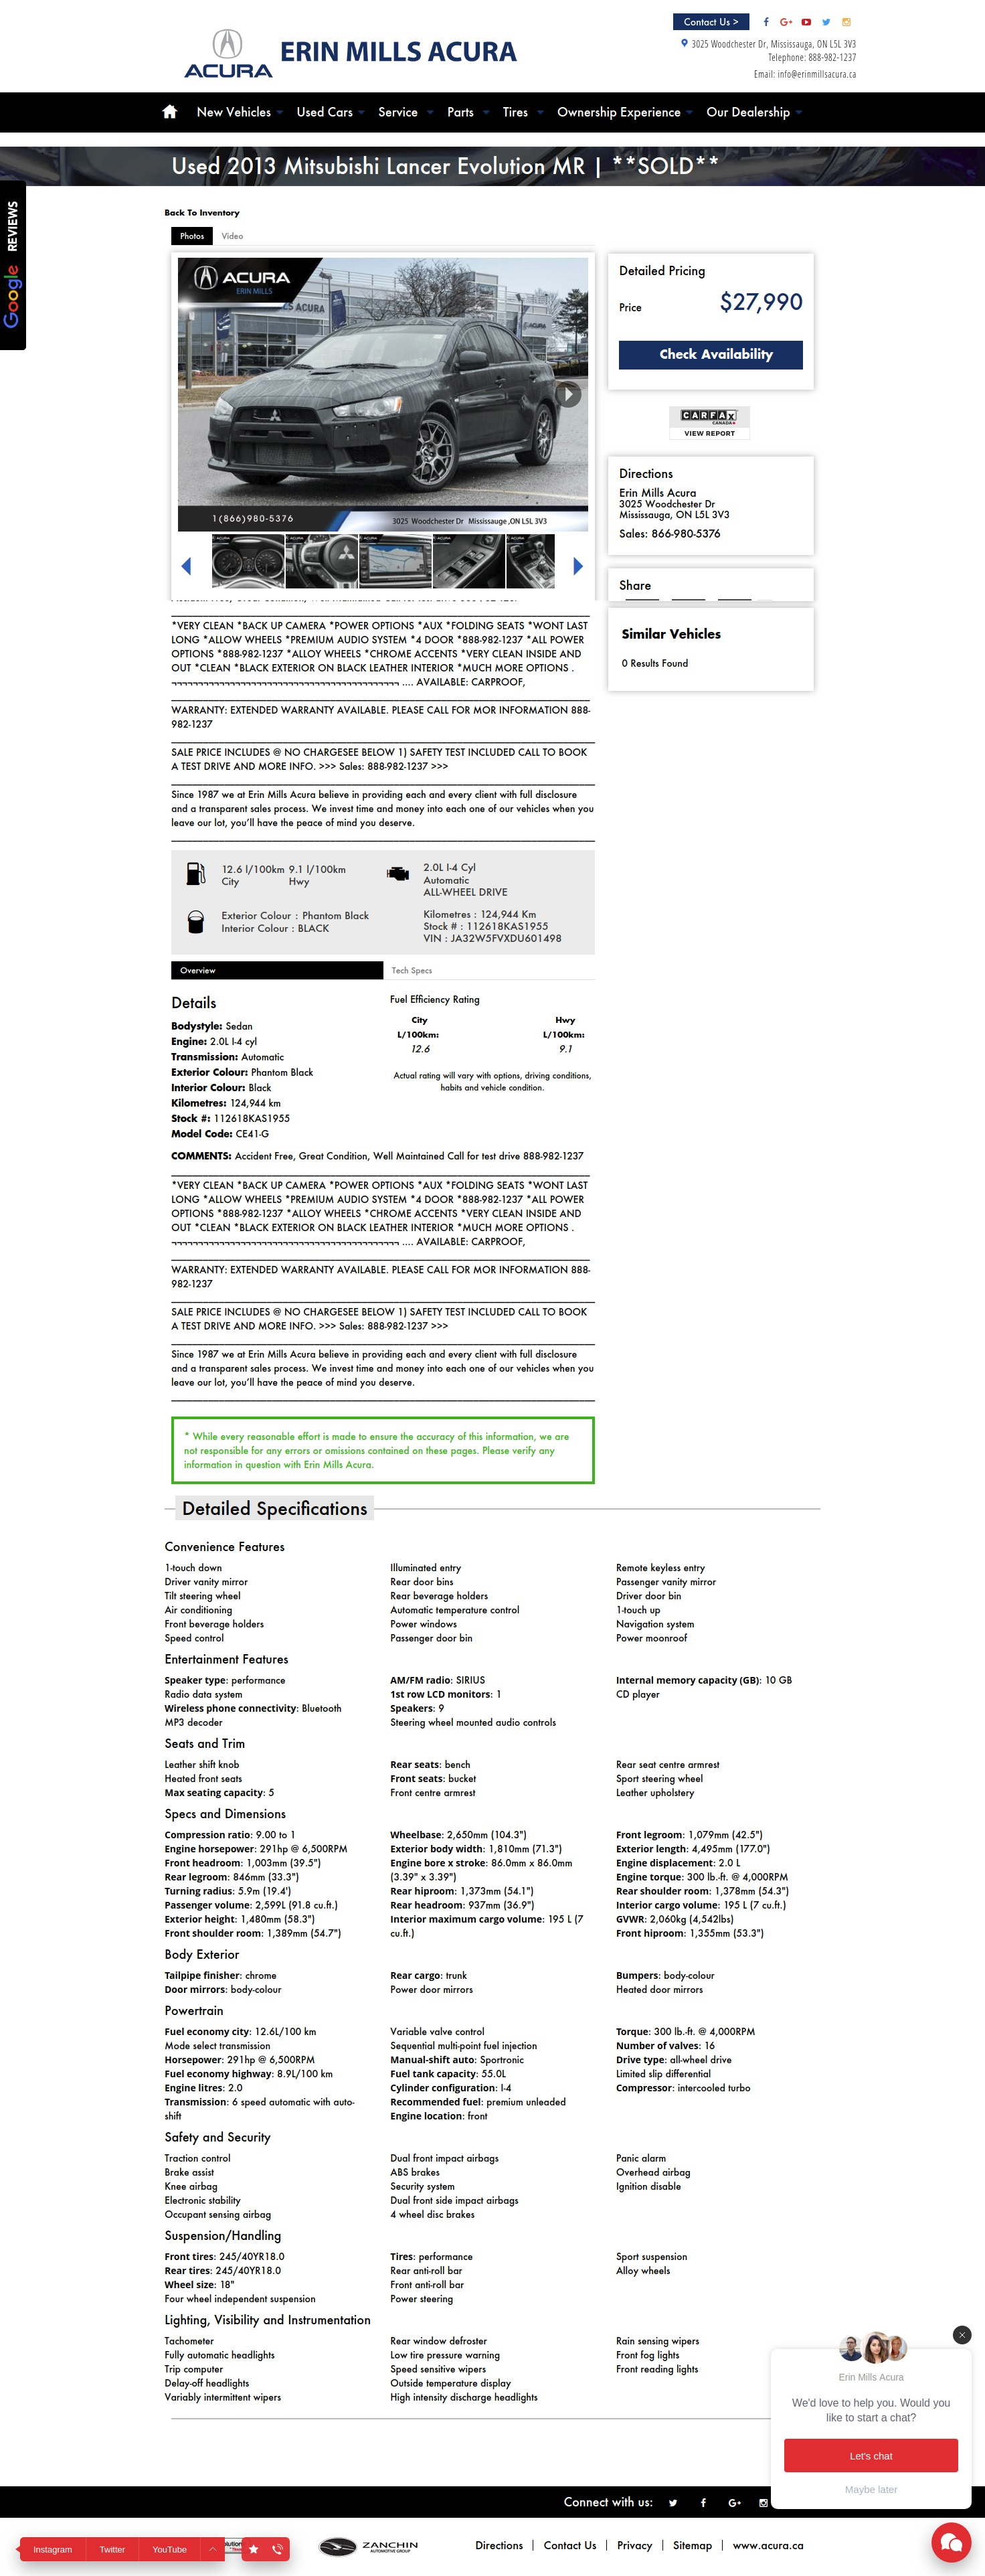car: (573, 557, 584, 577)
